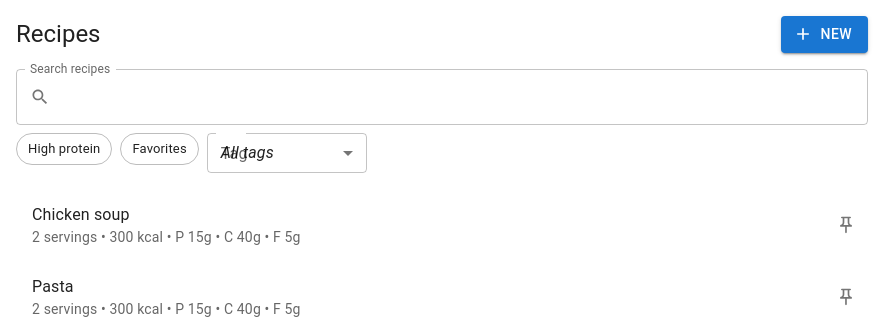
Scenario: RecipesListRoute › filters recipes client-side by name
Expected: the text "Chicken soup" is shown, [32,204,130,224]
Expected: the text "Pasta" is shown, [32,276,74,296]
Type "chick" into the field labelled "Search recipes".
click(463, 96); type("chick")  # box [58,68,868,124]
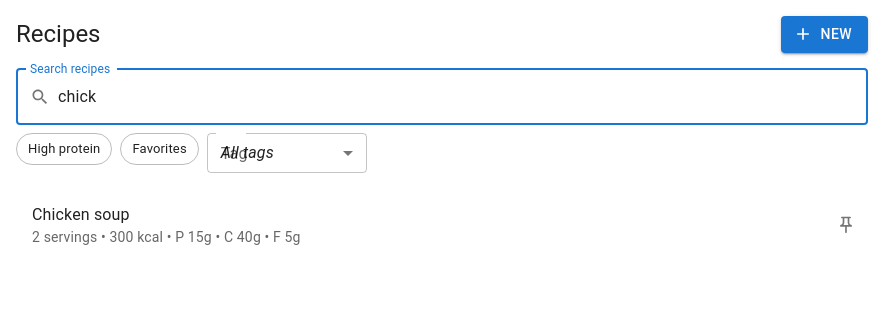
Expected: the text "Chicken soup" is shown, [32,204,130,224]
Result: the button "Pasta" is gone
